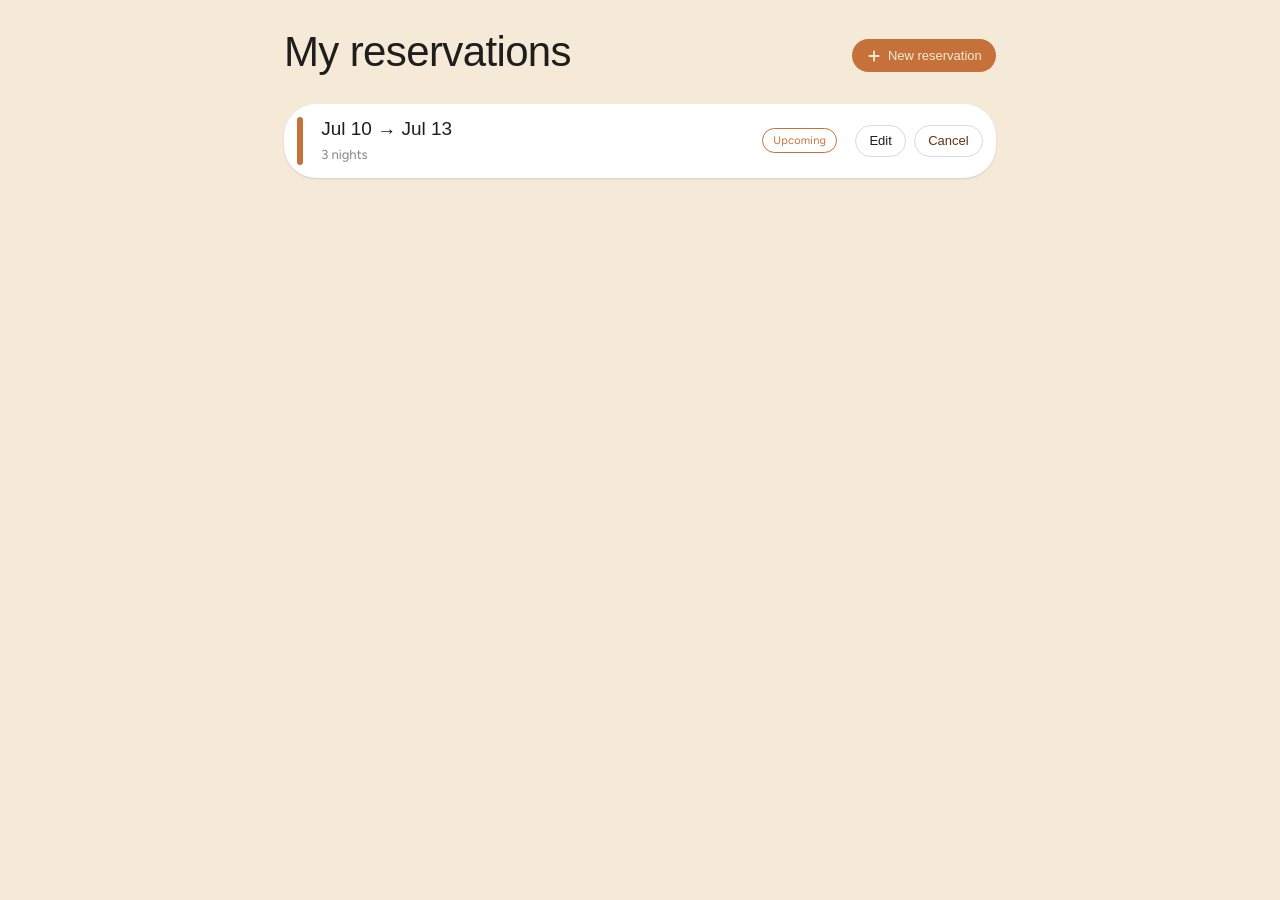
it: CAP-024 Change or cancel a reservation — from My reservations › CAP-024 · Someone takes the new dates first (the race message is shown)
The image size is (1280, 900).
Check: the heading "My reservations" is shown, box top-left (284, 28), bottom-right (571, 75)
Step 1. Click the button "Edit" → (881, 141), box top-left (855, 125), bottom-right (906, 157)
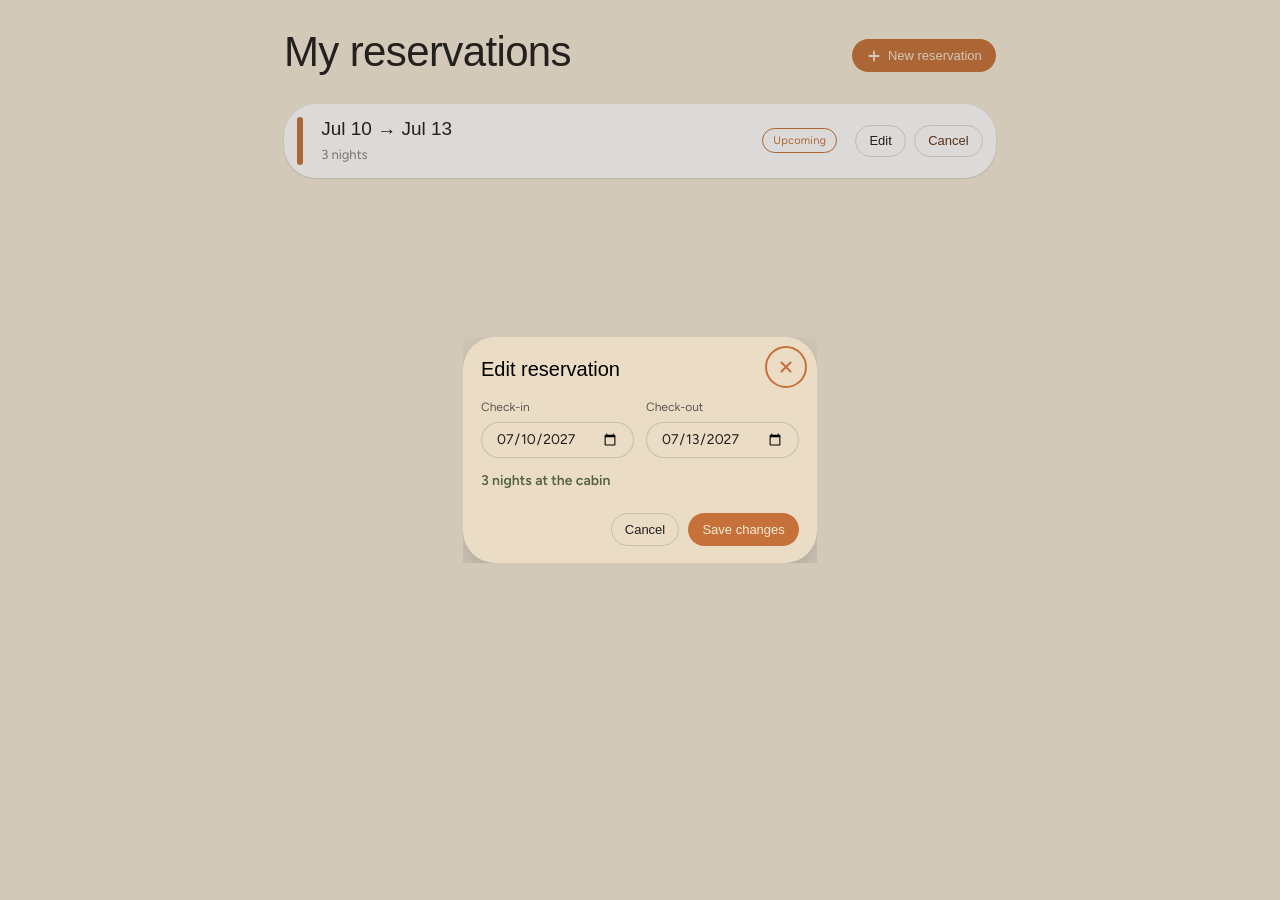
Step 2. Type "2027-07-15" into the date field with id "booking-check-out" → (722, 440), box top-left (646, 422), bottom-right (799, 458)
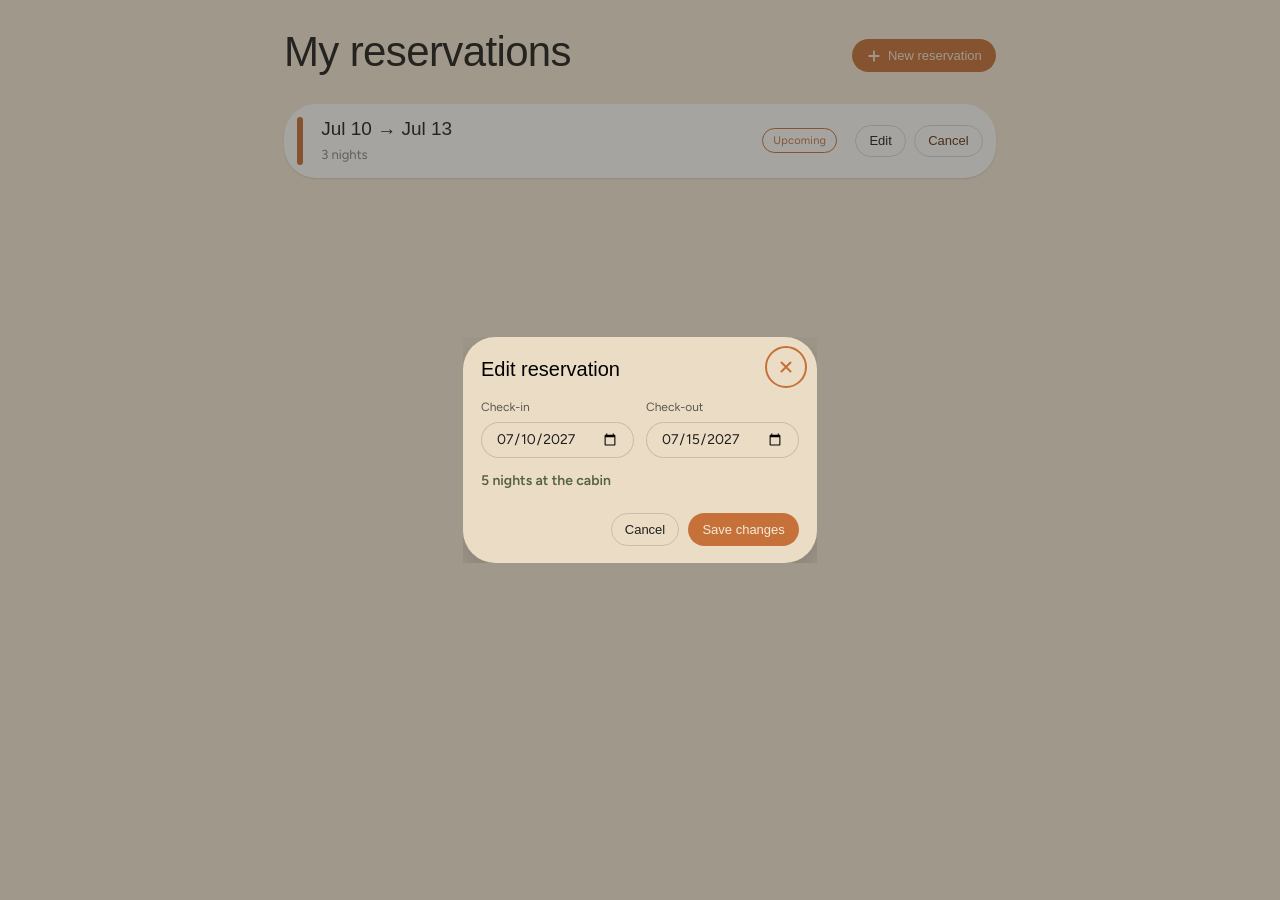
Step 3. Click the button "Save changes" → (744, 529), box top-left (688, 513), bottom-right (799, 546)
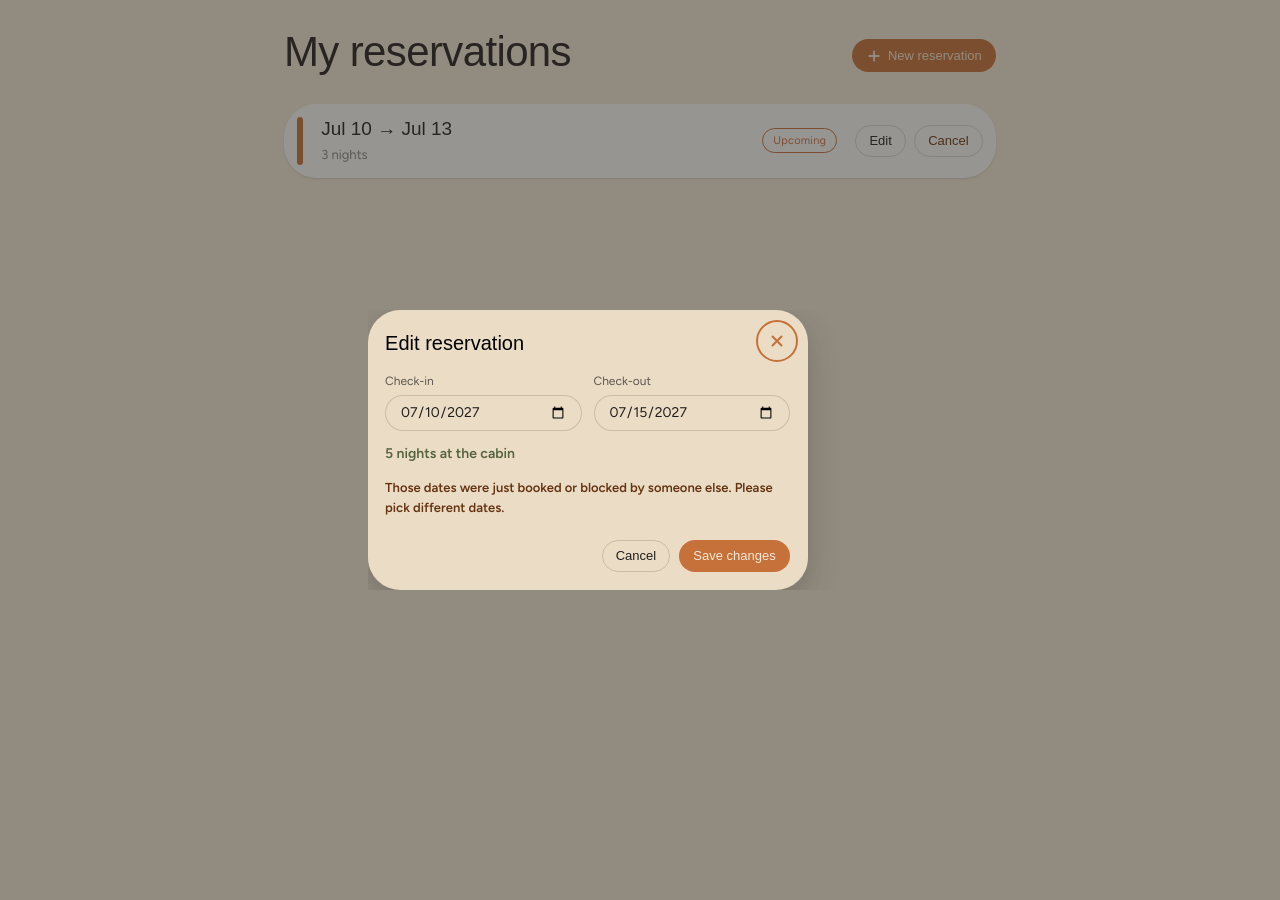
Check: the element with class "rowcard" is shown, box top-left (284, 104), bottom-right (996, 178)
Check: the text "Those dates were just booked or blocked by someone else. Please pick different dates." is shown, box top-left (385, 480), bottom-right (773, 515)
